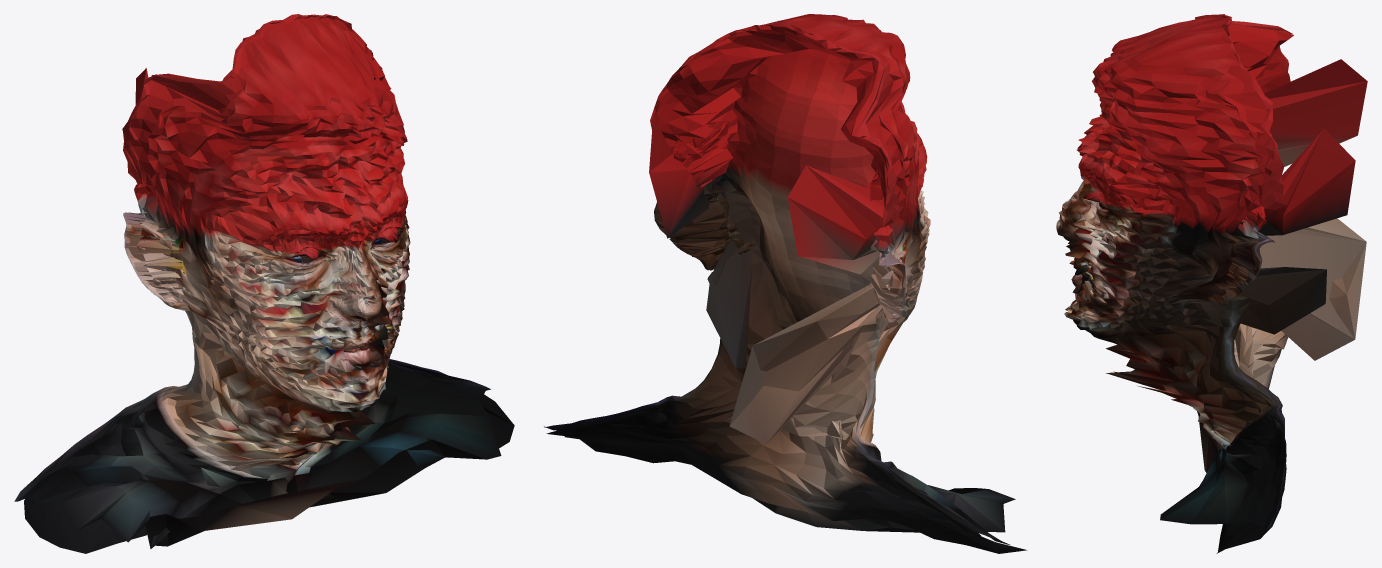
File: asian_m_red_hair.obj
The picture shows the model from 3 angles, left to right: view 1: azimuth 30°, elevation 25°; view 2: azimuth 150°, elevation 25°; view 3: azimuth 270°, elevation 25°; orthographic projection. The views are drawn at different scales.
Size of the model in its own units: 0.3661 by 0.3668 by 0.2274.
